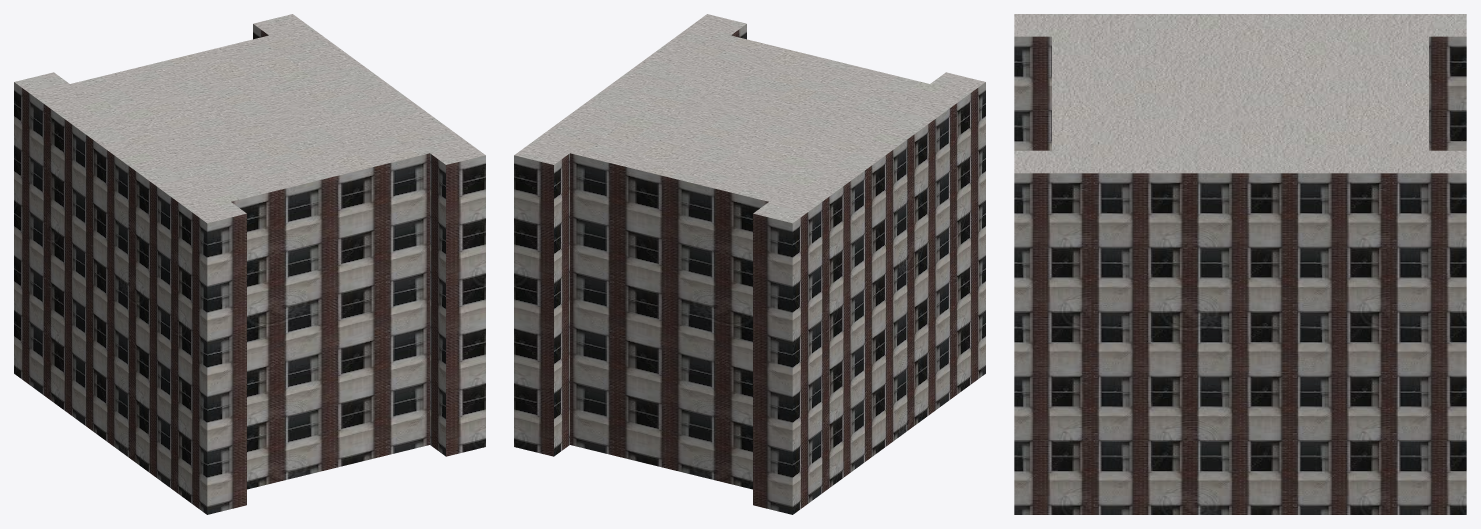
File: building_029.glb
3 views of the same model, side by side, from view 1: azimuth 30°, elevation 25°; view 2: azimuth 150°, elevation 25°; view 3: azimuth 270°, elevation 25° (orthographic). The views are drawn at different scales.
Visible parts, largest first — view 1: building_029.001; view 2: building_029.001; view 3: building_029.001.
Boxes of the visible parts, <box> form: building_029.001: <box>14,14,485,514</box>; building_029.001: <box>514,14,985,514</box>; building_029.001: <box>1014,14,1466,514</box>.
Size of the model in its own units: 14 by 14 by 16.8.
2 materials, 2 textured.
